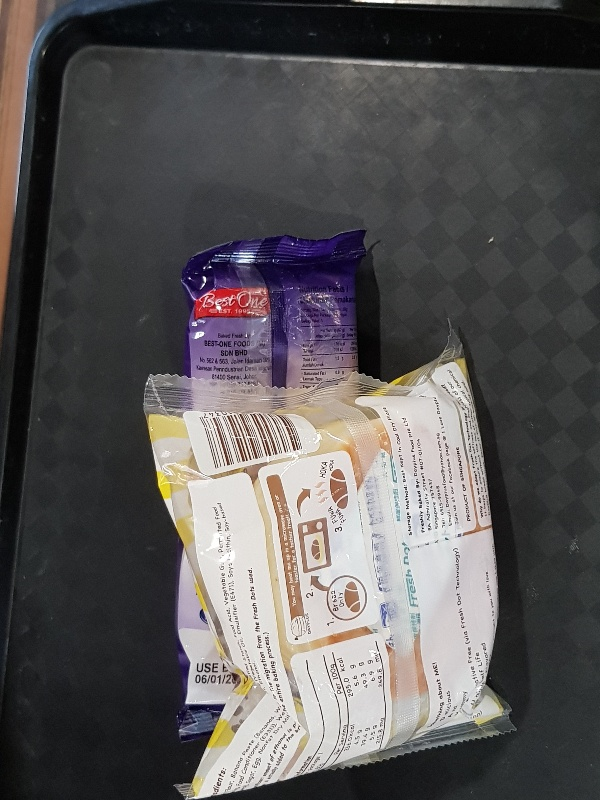Dayplus Banana: (143, 347, 515, 800)
Tinges Roll Chocolate: (182, 227, 359, 735)
